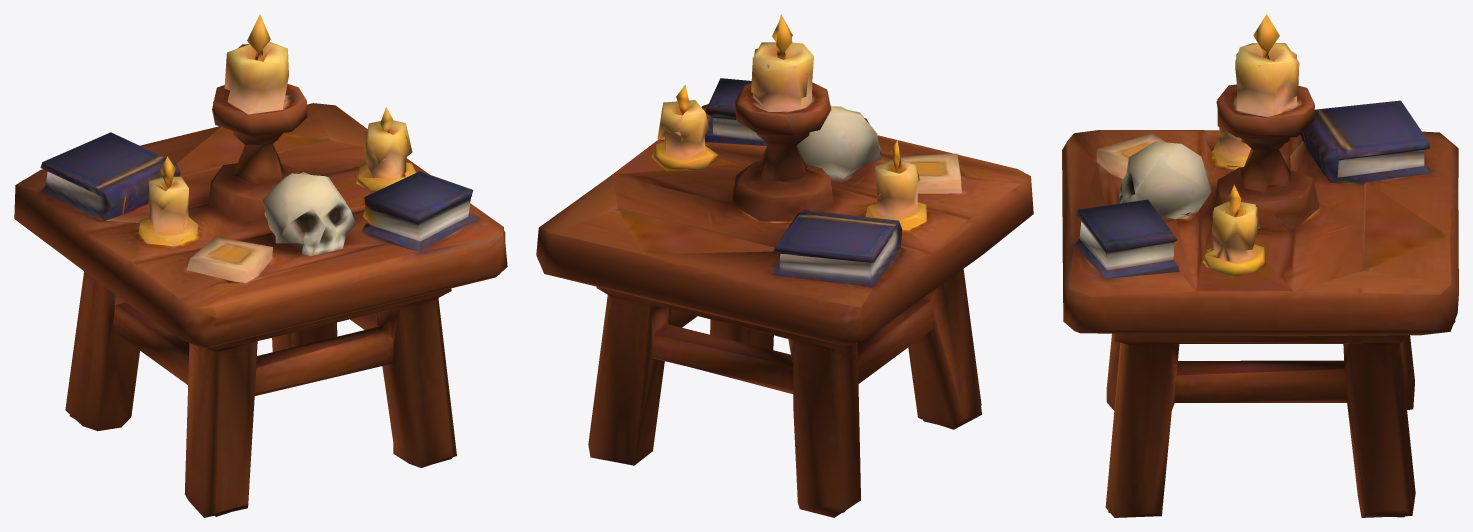
Rendered from lg-dungeon-table.glb.
3 views of the same model, side by side, from view 1: azimuth 30°, elevation 25°; view 2: azimuth 150°, elevation 25°; view 3: azimuth 270°, elevation 25° (orthographic). The views are drawn at different scales.
Visible parts, largest first — view 1: geometry_0; view 2: geometry_0; view 3: geometry_0.
Part boxes in pixels (x1,y1,x2,y2): geometry_0: (14,14,507,517); geometry_0: (536,14,1033,517); geometry_0: (1062,14,1458,517).
Bounding box in the file's own units: 0.8141 × 1 × 0.8104.
Materials: 1 (1 with a texture image).
